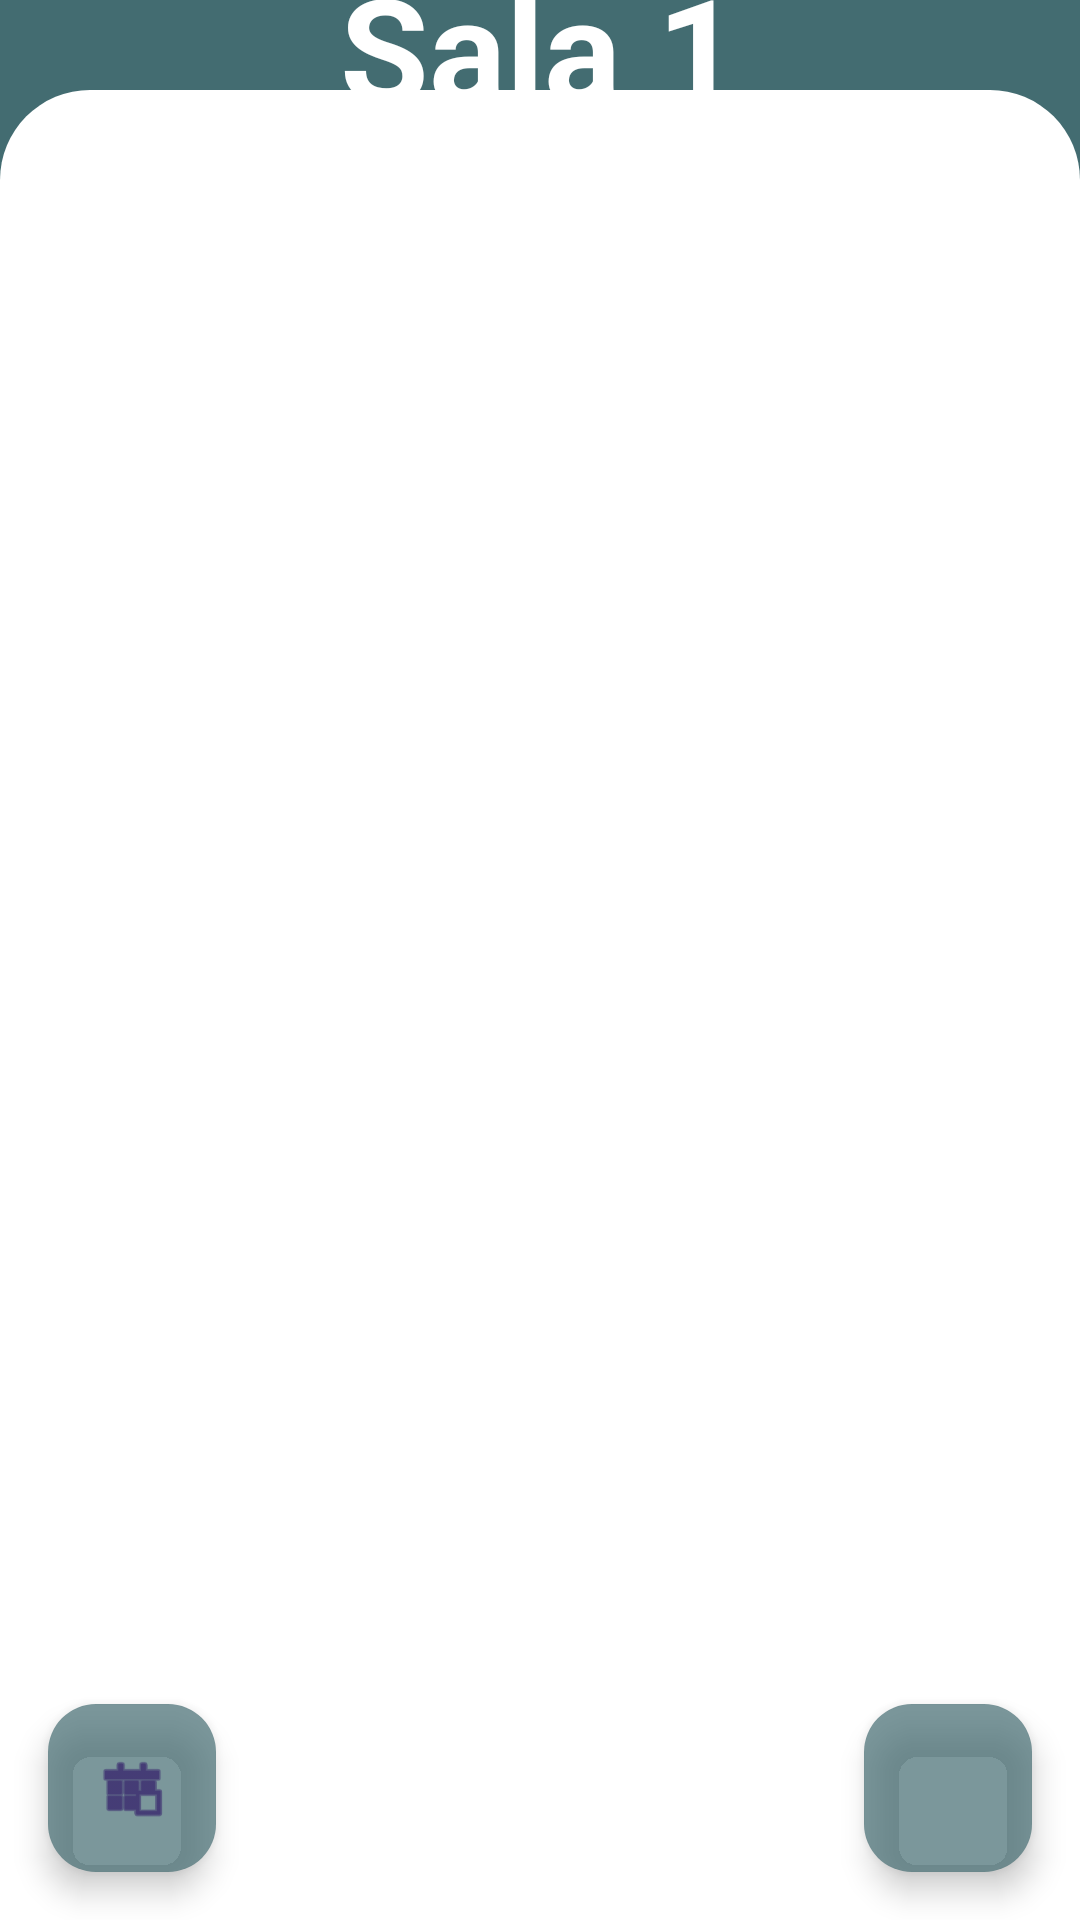

Icons on this 1080px×1920px Android screen, each with the point to tap as point (x, y):
today: point (132, 1788)
